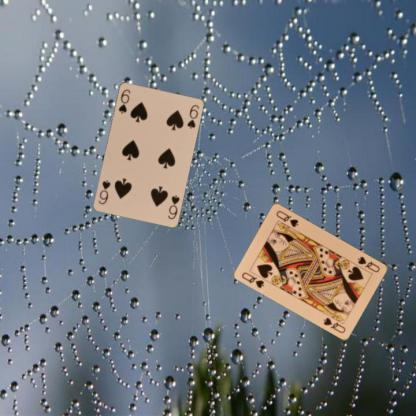6s: (116, 86, 132, 115), (165, 192, 181, 221)
Qs: (239, 270, 266, 290), (356, 254, 382, 274)
